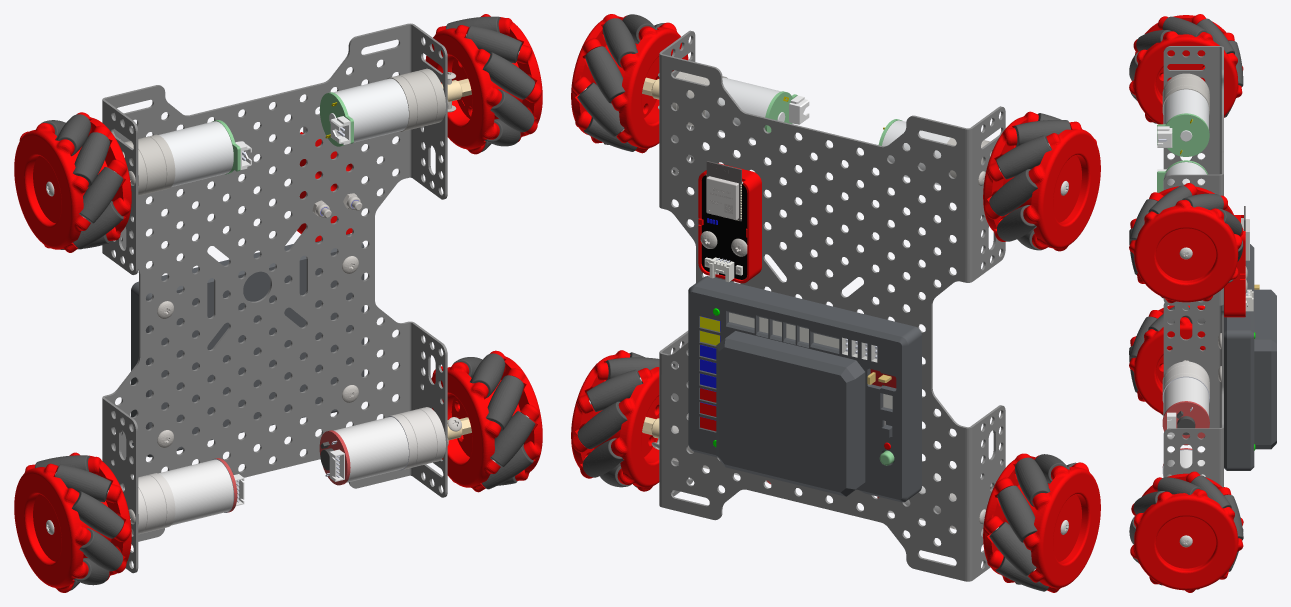
The model's file is ORC_K2_PRO_BASIC.glb.
The picture shows the model from 3 angles, left to right: view 1: azimuth 30°, elevation 25°; view 2: azimuth 150°, elevation 25°; view 3: azimuth 270°, elevation 25°; orthographic projection. The views are drawn at different scales.
Visible parts, largest first — view 1: Node1, Node2, Node8, Node5, Node33, Node16, Node4, Node7, Node26, Node27, Node12, Node13 (+3 smaller); view 2: Node7, Node4, Node2, Node8, Node1, Node5, Node16, Node30, Node18, Node19, Node28, Node12 (+1 smaller); view 3: Node2, Node4, Node1, Node8, Node5, Node7, Node16, Node28, Node33, Node26, Node17, Node27 (+1 smaller).
Boxes of the visible parts, x1,y1,x2,y2 form: Node1: (102, 23, 447, 573); Node2: (14, 14, 542, 592); Node8: (35, 16, 535, 590); Node5: (19, 15, 540, 590); Node33: (159, 417, 408, 525); Node16: (159, 78, 408, 186); Node4: (131, 234, 364, 457); Node7: (103, 36, 447, 536); Node26: (46, 181, 445, 535); Node27: (122, 68, 445, 195); Node12: (128, 72, 461, 524); Node13: (233, 116, 350, 505); Node7: (659, 44, 1005, 581); Node4: (688, 276, 921, 502); Node2: (571, 14, 1100, 589); Node8: (577, 14, 1076, 591); Node1: (659, 30, 1005, 581); Node5: (571, 15, 1096, 592); Node16: (705, 77, 950, 185); Node30: (701, 175, 747, 279); Node18: (704, 257, 892, 409); Node19: (706, 176, 738, 220); Node28: (764, 91, 902, 465); Node12: (651, 73, 985, 524); Node2: (1129, 15, 1245, 591); Node4: (1224, 244, 1276, 470); Node1: (1163, 46, 1223, 468); Node8: (1129, 16, 1243, 589); Node5: (1129, 14, 1245, 592); Node7: (1163, 48, 1223, 487); Node16: (1163, 89, 1208, 190); Node28: (1157, 113, 1209, 192); Node33: (1163, 377, 1208, 477); Node26: (1162, 247, 1209, 547); Node17: (1162, 401, 1209, 467); Node27: (1162, 73, 1209, 114).
Size of the model in its own units: 245 by 229 by 78.25.
